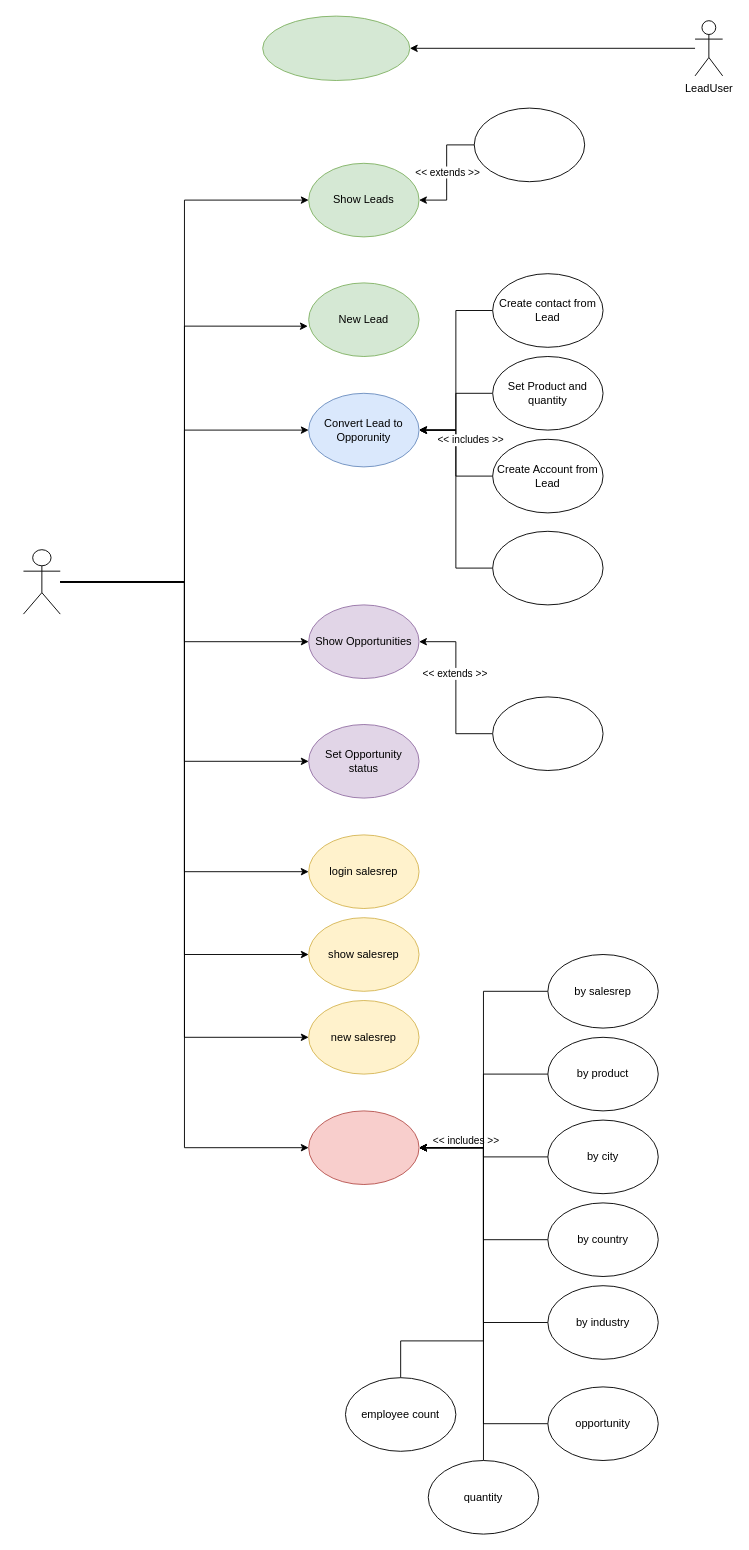
This 749x1550 diagram has some shape labels left out. Here are the shapes that lost their labels. From the top down, the centre of each, then its label:
At point (336, 47): "Signs up as new Lead".
At point (529, 144): "Look up Lead by id".
At point (41, 581): "CRM User".
At point (547, 567): "Delete Lead".
At point (547, 733): "Look up Opportunity by id".
At point (363, 1147): "reporting".
